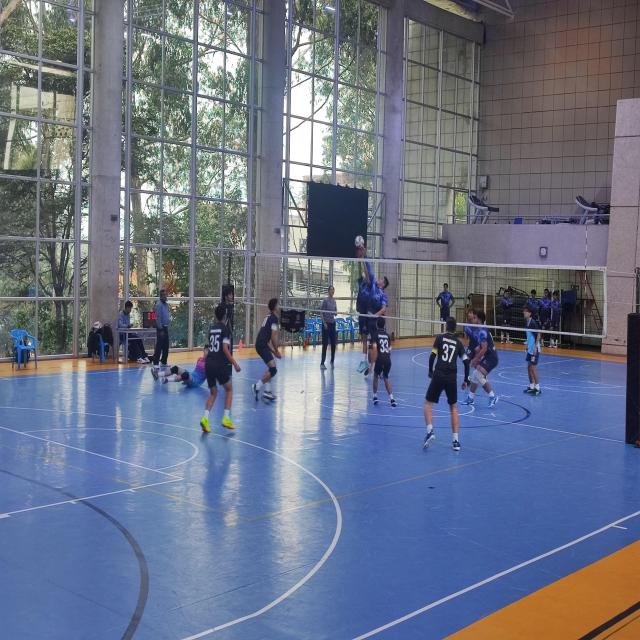volleyball: (355, 236, 364, 248), (94, 321, 102, 331)
